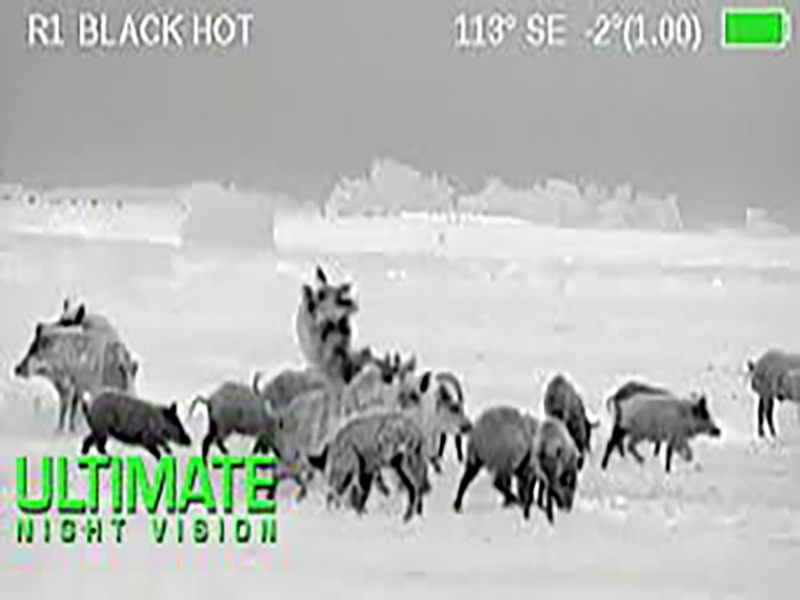cinghiale: (457, 404, 592, 520), (13, 322, 145, 421), (320, 409, 436, 513), (606, 388, 736, 470), (71, 388, 195, 462), (298, 263, 367, 390), (187, 374, 278, 456), (544, 370, 603, 453), (755, 342, 798, 446)
